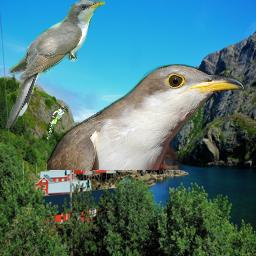Cuckoo: (47, 64, 244, 170), (6, 0, 105, 128), (47, 106, 68, 139)
